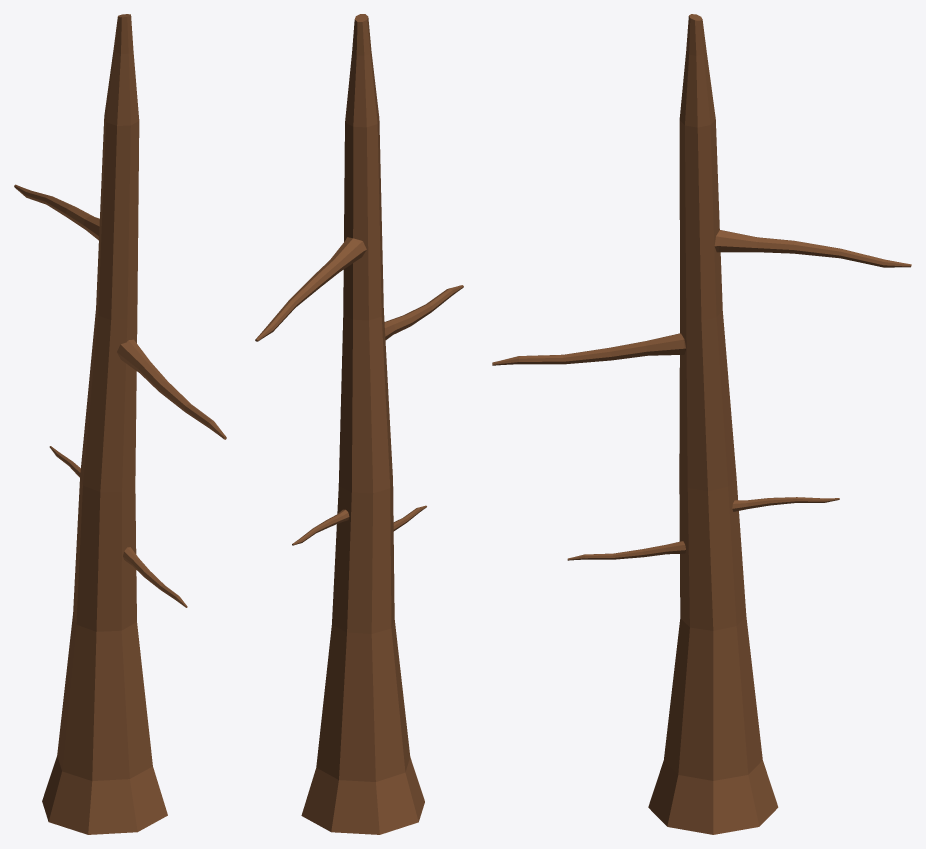
The model's file is TreeVar3.fbx.
The picture shows the model from 3 angles, left to right: view 1: azimuth 30°, elevation 25°; view 2: azimuth 150°, elevation 25°; view 3: azimuth 270°, elevation 25°; orthographic projection.
Visible parts, largest first — view 1: TreeTrunkDead, TreeTrunkDead.002, TreeTrunkDead.001, TreeTrunkDead.003; view 2: TreeTrunkDead, TreeTrunkDead.001, TreeTrunkDead.002, TreeTrunkDead.004; view 3: TreeTrunkDead, TreeTrunkDead.001, TreeTrunkDead.002, TreeTrunkDead.003, TreeTrunkDead.004.
Boxes of the visible parts, x1,y1,x2,y2 form: TreeTrunkDead: (42, 14, 167, 834); TreeTrunkDead.002: (117, 339, 226, 439); TreeTrunkDead.001: (14, 184, 99, 240); TreeTrunkDead.003: (123, 547, 187, 607); TreeTrunkDead: (301, 14, 424, 834); TreeTrunkDead.001: (255, 237, 366, 341); TreeTrunkDead.002: (384, 285, 463, 339); TreeTrunkDead.004: (292, 509, 349, 545); TreeTrunkDead: (648, 14, 778, 834); TreeTrunkDead.001: (714, 230, 911, 267); TreeTrunkDead.002: (492, 333, 686, 365); TreeTrunkDead.003: (567, 541, 685, 560); TreeTrunkDead.004: (732, 497, 839, 511).
Size of the model in its own units: 0.7746 by 5.23 by 2.49.
